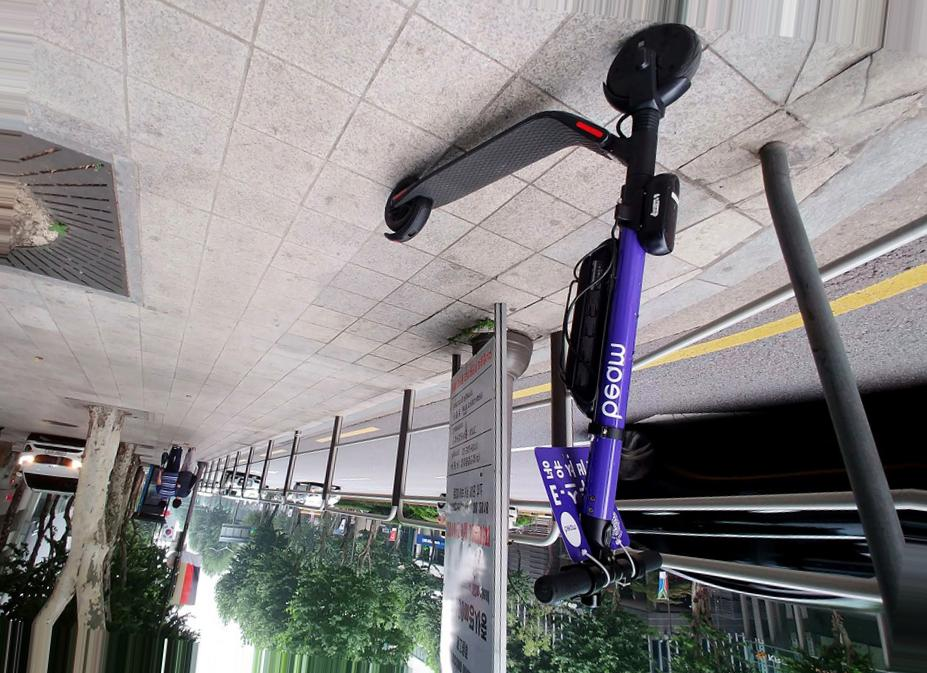scooter: (381, 22, 704, 606)
